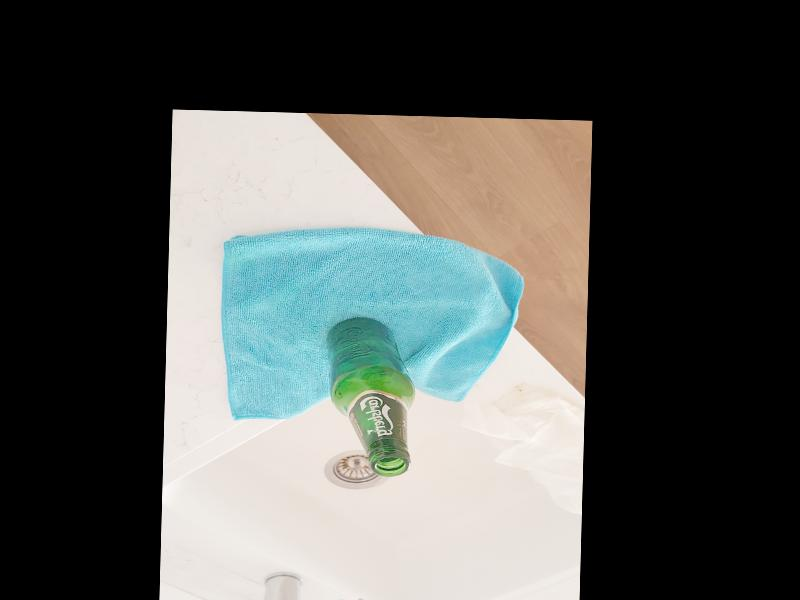Beer: (325, 314, 417, 475)
